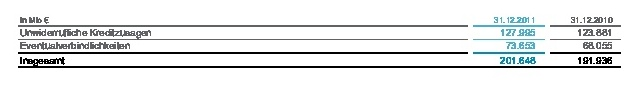table: (0, 0, 643, 90)
